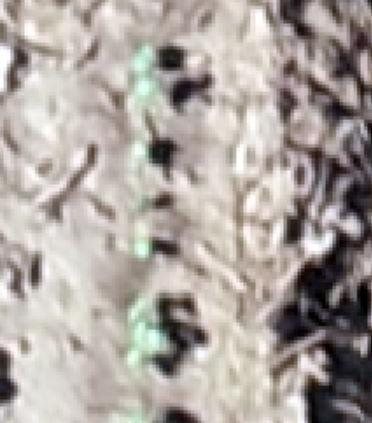cotton: (137, 324, 165, 350), (134, 49, 154, 72), (136, 75, 157, 95), (129, 351, 154, 367), (135, 301, 151, 324), (136, 240, 153, 255), (141, 146, 153, 159)
